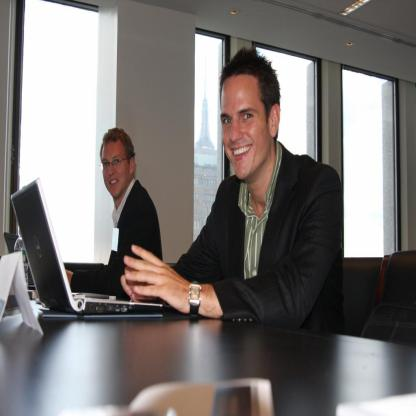board: (12, 177, 162, 316)
